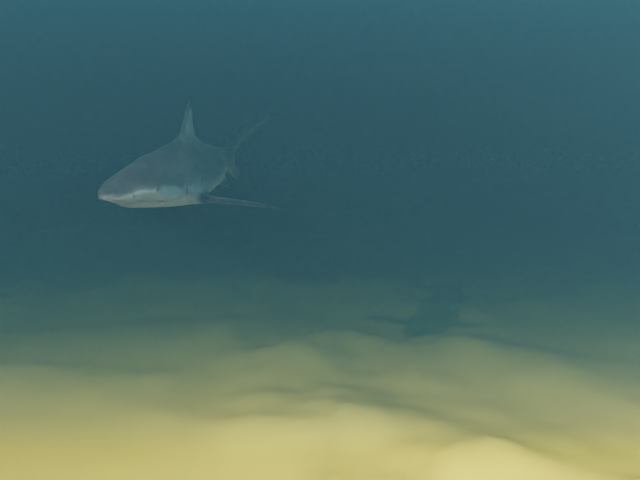Carribean Shark.001: (96, 101, 280, 208)
